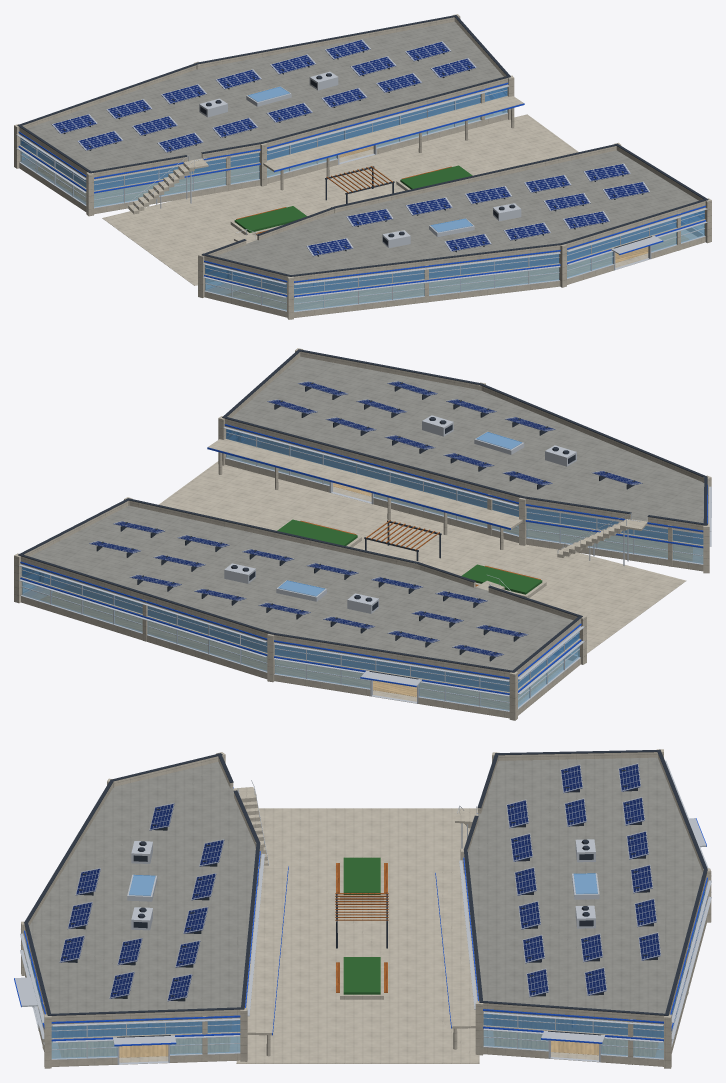
Rendered from landmark_google_2000_1950.glb.
3 renders of one model, top to bottom at view 1: azimuth 30°, elevation 25°; view 2: azimuth 150°, elevation 25°; view 3: azimuth 270°, elevation 25°, orthographic. The views are drawn at different scales.
Visible parts, largest first — view 1: G2000_1950_roof, G2000_1950_conc, G2000_1950_plaza, G2000_1950_solar, G2000_1950_floor_oak, G2000_1950_alum, G2000_1950_glass_up, G2000_1950_glass_lo, G2000_1950_dark, G2000_1950_accent, G2000_1950_shrub, G2000_1950_int_wall (+2 smaller); view 2: G2000_1950_roof, G2000_1950_conc, G2000_1950_plaza, G2000_1950_alum, G2000_1950_floor_oak, G2000_1950_glass_up, G2000_1950_glass_lo, G2000_1950_dark, G2000_1950_solar, G2000_1950_accent, G2000_1950_shrub, G2000_1950_int_wall (+2 smaller); view 3: G2000_1950_roof, G2000_1950_plaza, G2000_1950_conc, G2000_1950_solar, G2000_1950_alum, G2000_1950_dark, G2000_1950_floor_oak, G2000_1950_glass_up, G2000_1950_glass_lo, G2000_1950_accent, G2000_1950_shrub, G2000_1950_cedar (+2 smaller).
Part boxes in pixels (x1,y1,x2,y2): G2000_1950_roof: [19, 21, 705, 283]; G2000_1950_conc: [14, 14, 711, 319]; G2000_1950_plaza: [102, 114, 578, 285]; G2000_1950_solar: [51, 39, 649, 256]; G2000_1950_floor_oak: [35, 96, 689, 310]; G2000_1950_alum: [16, 71, 707, 312]; G2000_1950_glass_up: [20, 86, 704, 294]; G2000_1950_glass_lo: [20, 110, 704, 311]; G2000_1950_dark: [17, 15, 708, 276]; G2000_1950_accent: [18, 82, 705, 297]; G2000_1950_shrub: [234, 165, 472, 232]; G2000_1950_int_wall: [19, 84, 705, 296]; G2000_1950_roof: [21, 356, 704, 679]; G2000_1950_conc: [14, 348, 711, 720]; G2000_1950_plaza: [159, 461, 686, 653]; G2000_1950_alum: [19, 415, 711, 711]; G2000_1950_floor_oak: [40, 440, 692, 709]; G2000_1950_glass_up: [21, 429, 703, 691]; G2000_1950_glass_lo: [22, 454, 703, 710]; G2000_1950_dark: [18, 349, 707, 679]; G2000_1950_solar: [89, 381, 642, 656]; G2000_1950_accent: [20, 424, 707, 694]; G2000_1950_shrub: [277, 519, 542, 594]; G2000_1950_int_wall: [20, 426, 703, 681]; G2000_1950_roof: [29, 757, 704, 1024]; G2000_1950_plaza: [236, 808, 479, 1063]; G2000_1950_conc: [21, 749, 711, 1068]; G2000_1950_solar: [59, 763, 660, 1001]; G2000_1950_alum: [14, 760, 711, 1064]; G2000_1950_dark: [24, 749, 707, 1037]; G2000_1950_floor_oak: [54, 1015, 662, 1057]; G2000_1950_glass_up: [26, 873, 705, 1038]; G2000_1950_glass_lo: [26, 910, 704, 1058]; G2000_1950_accent: [14, 787, 707, 1046]; G2000_1950_shrub: [343, 857, 380, 994]; G2000_1950_cedar: [335, 863, 388, 992].
Bounding box in the file's own units: 82.29 × 8.06 × 88.92.
16 materials, 7 textured.
